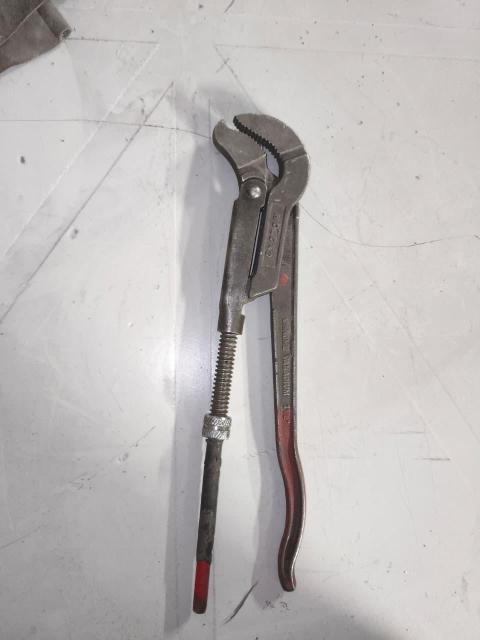Metal: (192, 103, 320, 617)
